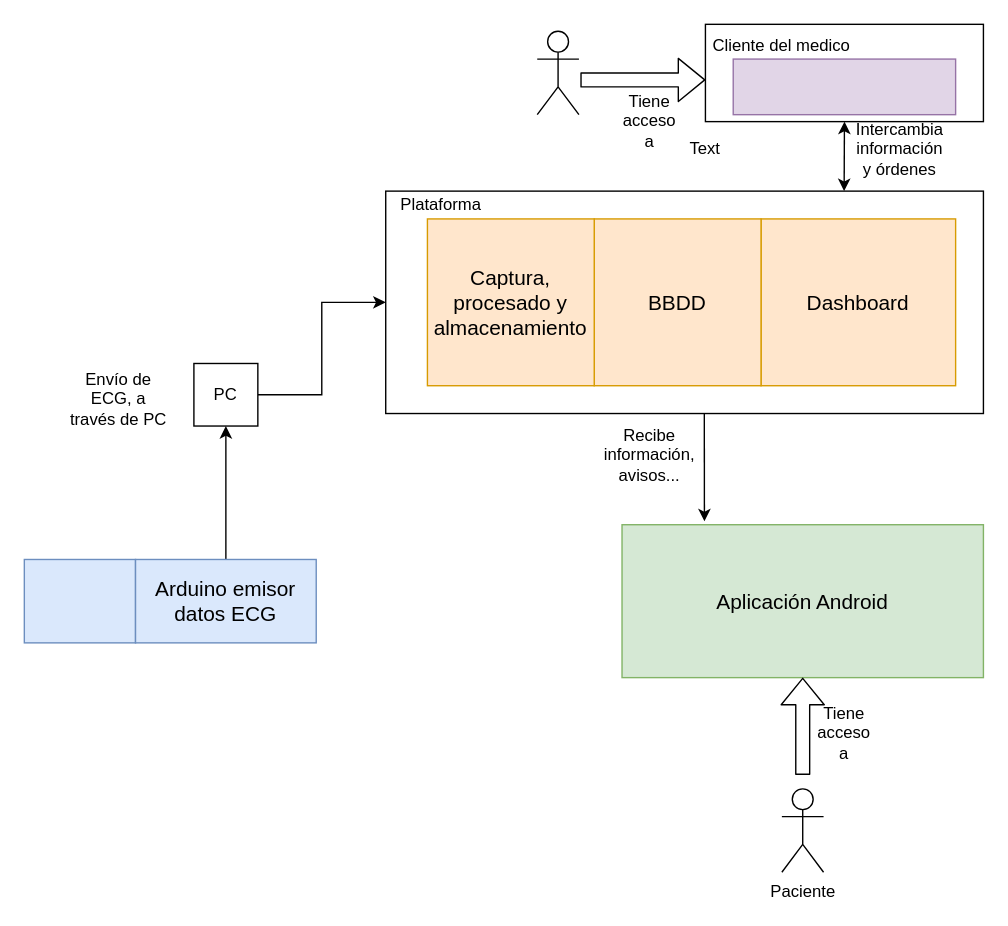
The diagram is 1008 pixels wide and 926 high, and some of its shapes have lost their labels. The shapes that lost their labels are listed below. From the top down, each one's centre as x and y in pixels, then its label:
At point 557,72: "Especialista".
At point 844,86: "Página web, acceso a ECGs de pacientes, y otras acciones".
At point 79,600: "Sensor ECG".
